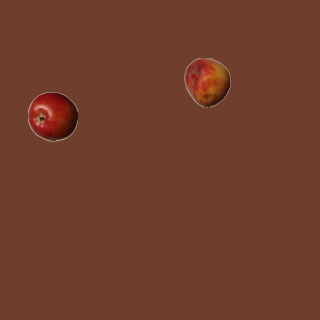Apple Braeburn: (27, 91, 77, 141)
Peach: (182, 57, 232, 107)
